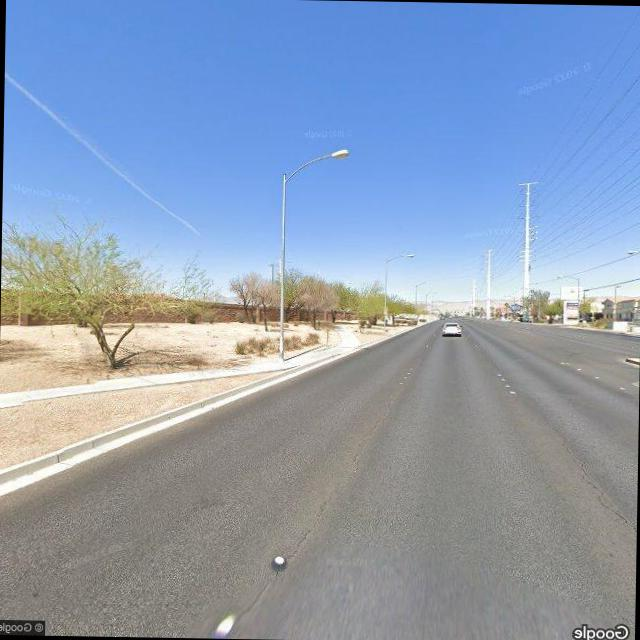crack: (567, 452, 638, 612)
